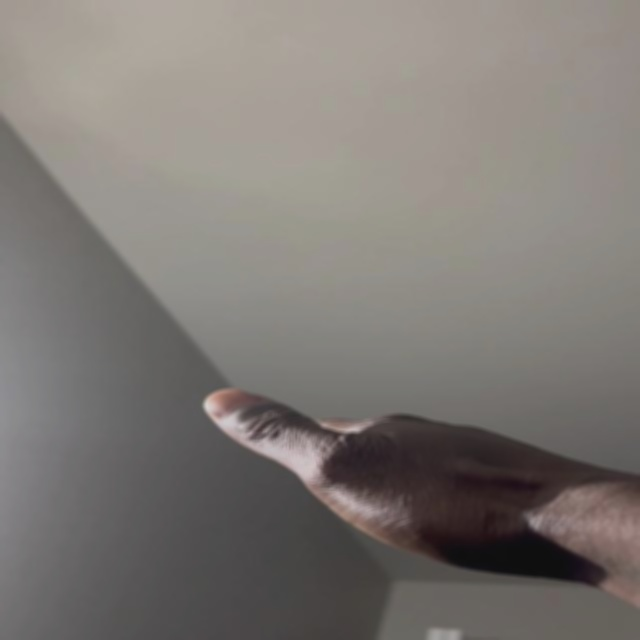Paper: (203, 385, 626, 591)
